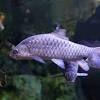Grass Carp: (9, 27, 100, 64)
